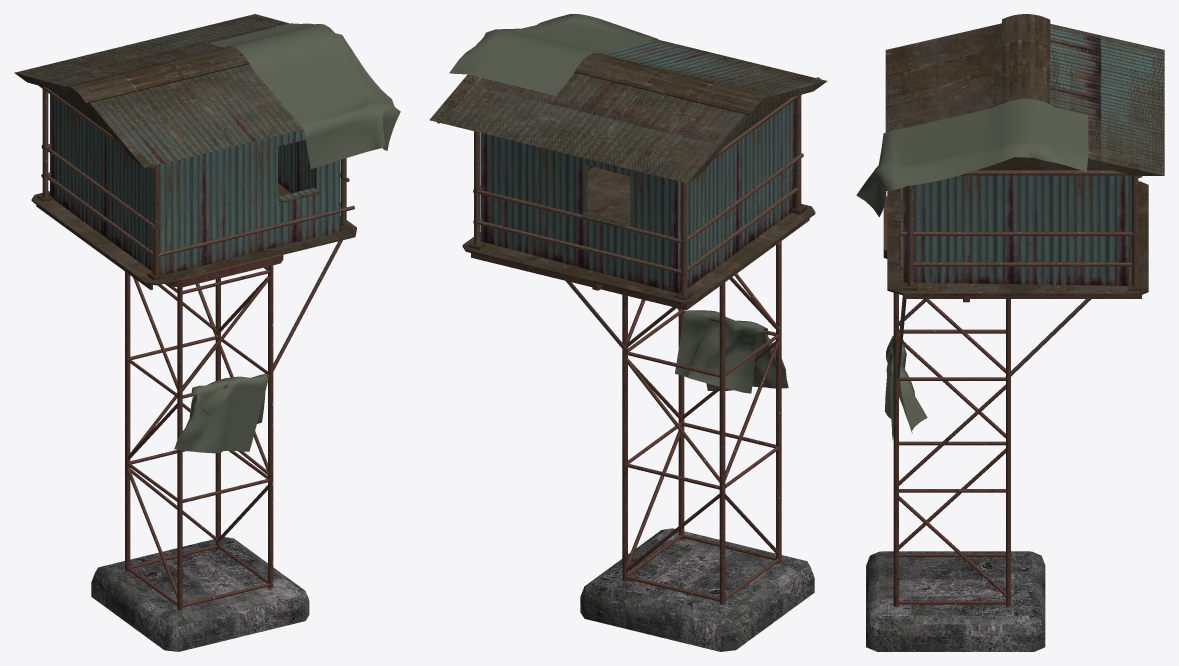
The model's file is SafeTower 1.fbx.
3 renders of one model, left to right at view 1: azimuth 30°, elevation 25°; view 2: azimuth 150°, elevation 25°; view 3: azimuth 270°, elevation 25°, orthographic. The views are drawn at different scales.
Visible parts, largest first — view 1: Tower_1, Cloth_2, Cloth_1; view 2: Tower_1, Cloth_2, Cloth_1; view 3: Tower_1, Cloth_2, Cloth_1.
Part boxes in pixels (left/top/right/bottom): Tower_1: left=14, top=14, right=356, bottom=651; Cloth_2: left=209, top=23, right=400, bottom=169; Cloth_1: left=174, top=373, right=268, bottom=453; Tower_1: left=429, top=39, right=827, bottom=651; Cloth_2: left=449, top=14, right=658, bottom=95; Cloth_1: left=675, top=310, right=788, bottom=393; Tower_1: left=866, top=14, right=1164, bottom=651; Cloth_2: left=856, top=98, right=1088, bottom=217; Cloth_1: left=885, top=334, right=927, bottom=440.
Size of the model in its own units: 174 by 326 by 165.
